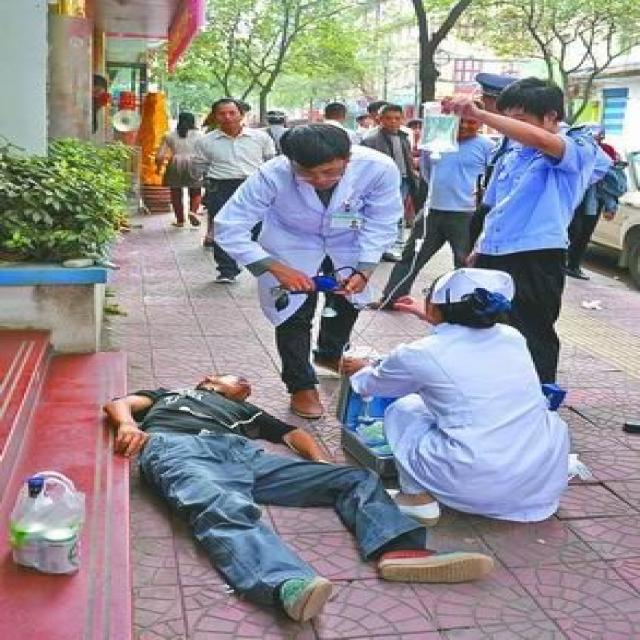10-: (68, 64, 622, 638)
down: (85, 344, 507, 632)
